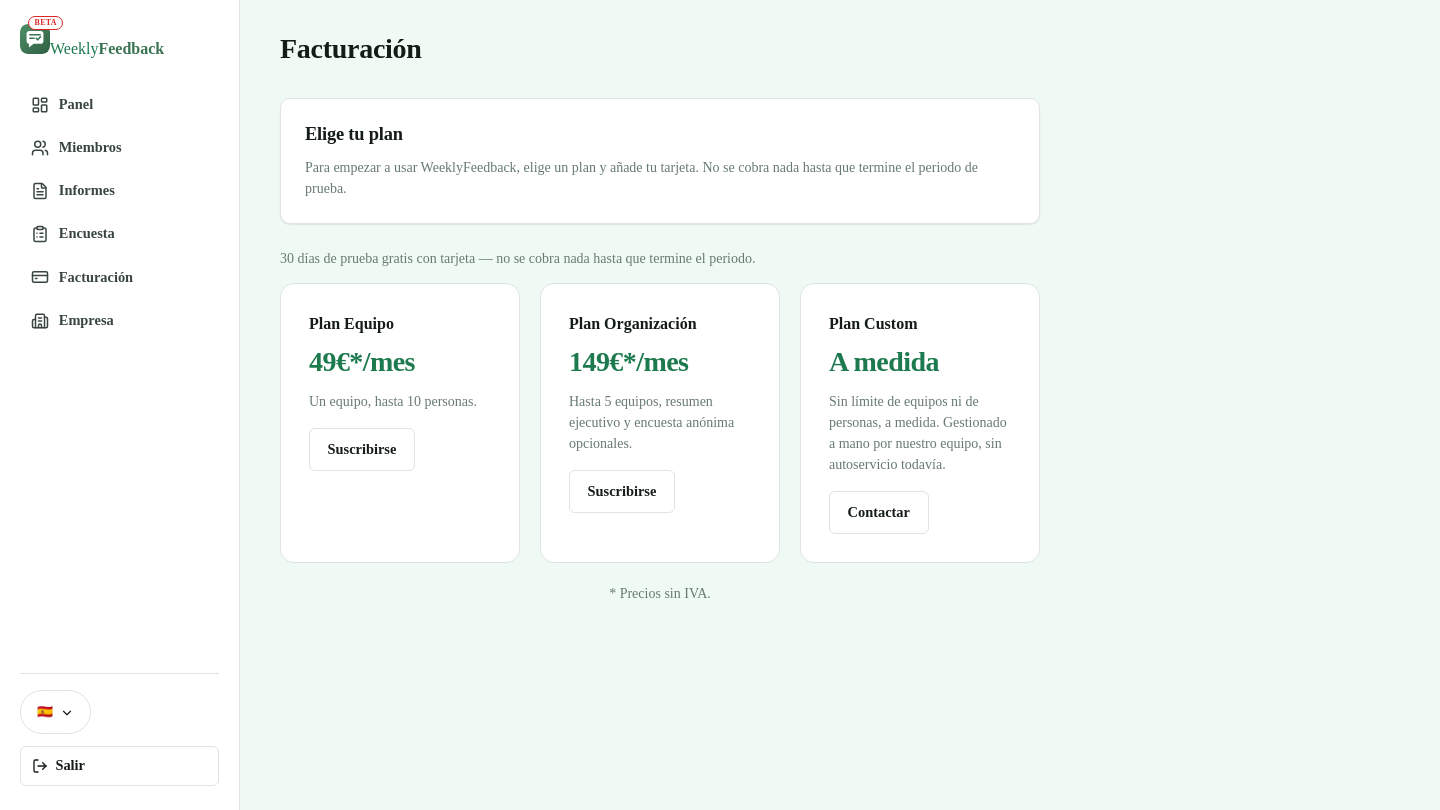
Test: BillingPage — en trial: suscribirse va directo a Stripe Checkout, sin confirmar › fallo iniciando el checkout: muestra el error de acción
Expected: the heading "Elige tu plan" is shown, [305,124,403,144]
Step 1. Click the button "Suscribirse" below "Plan Equipo" → click(362, 450), box [309,428,415,471]
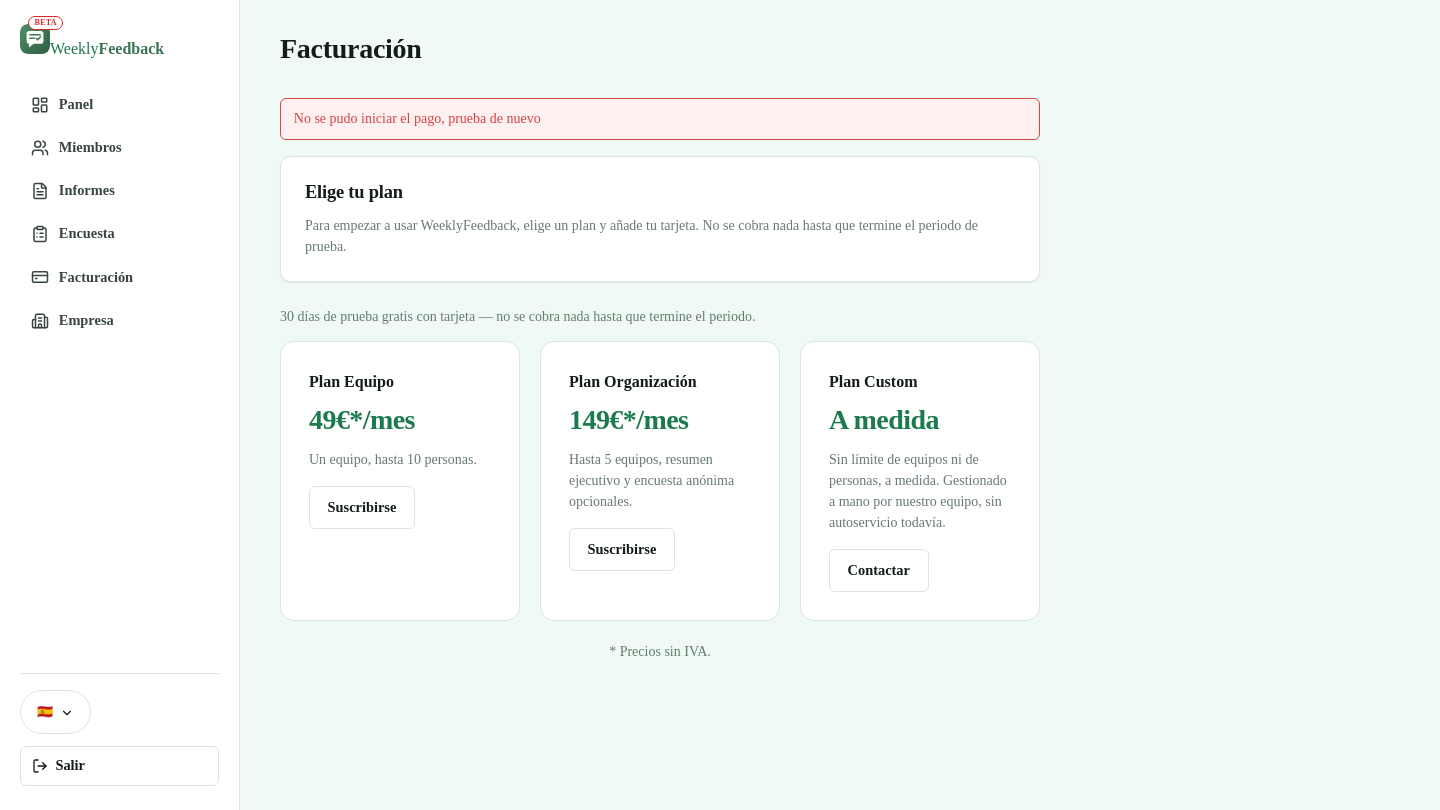
Now the message reads "No se pudo iniciar el pago, prueba de nuevo", box [294,111,541,126]
